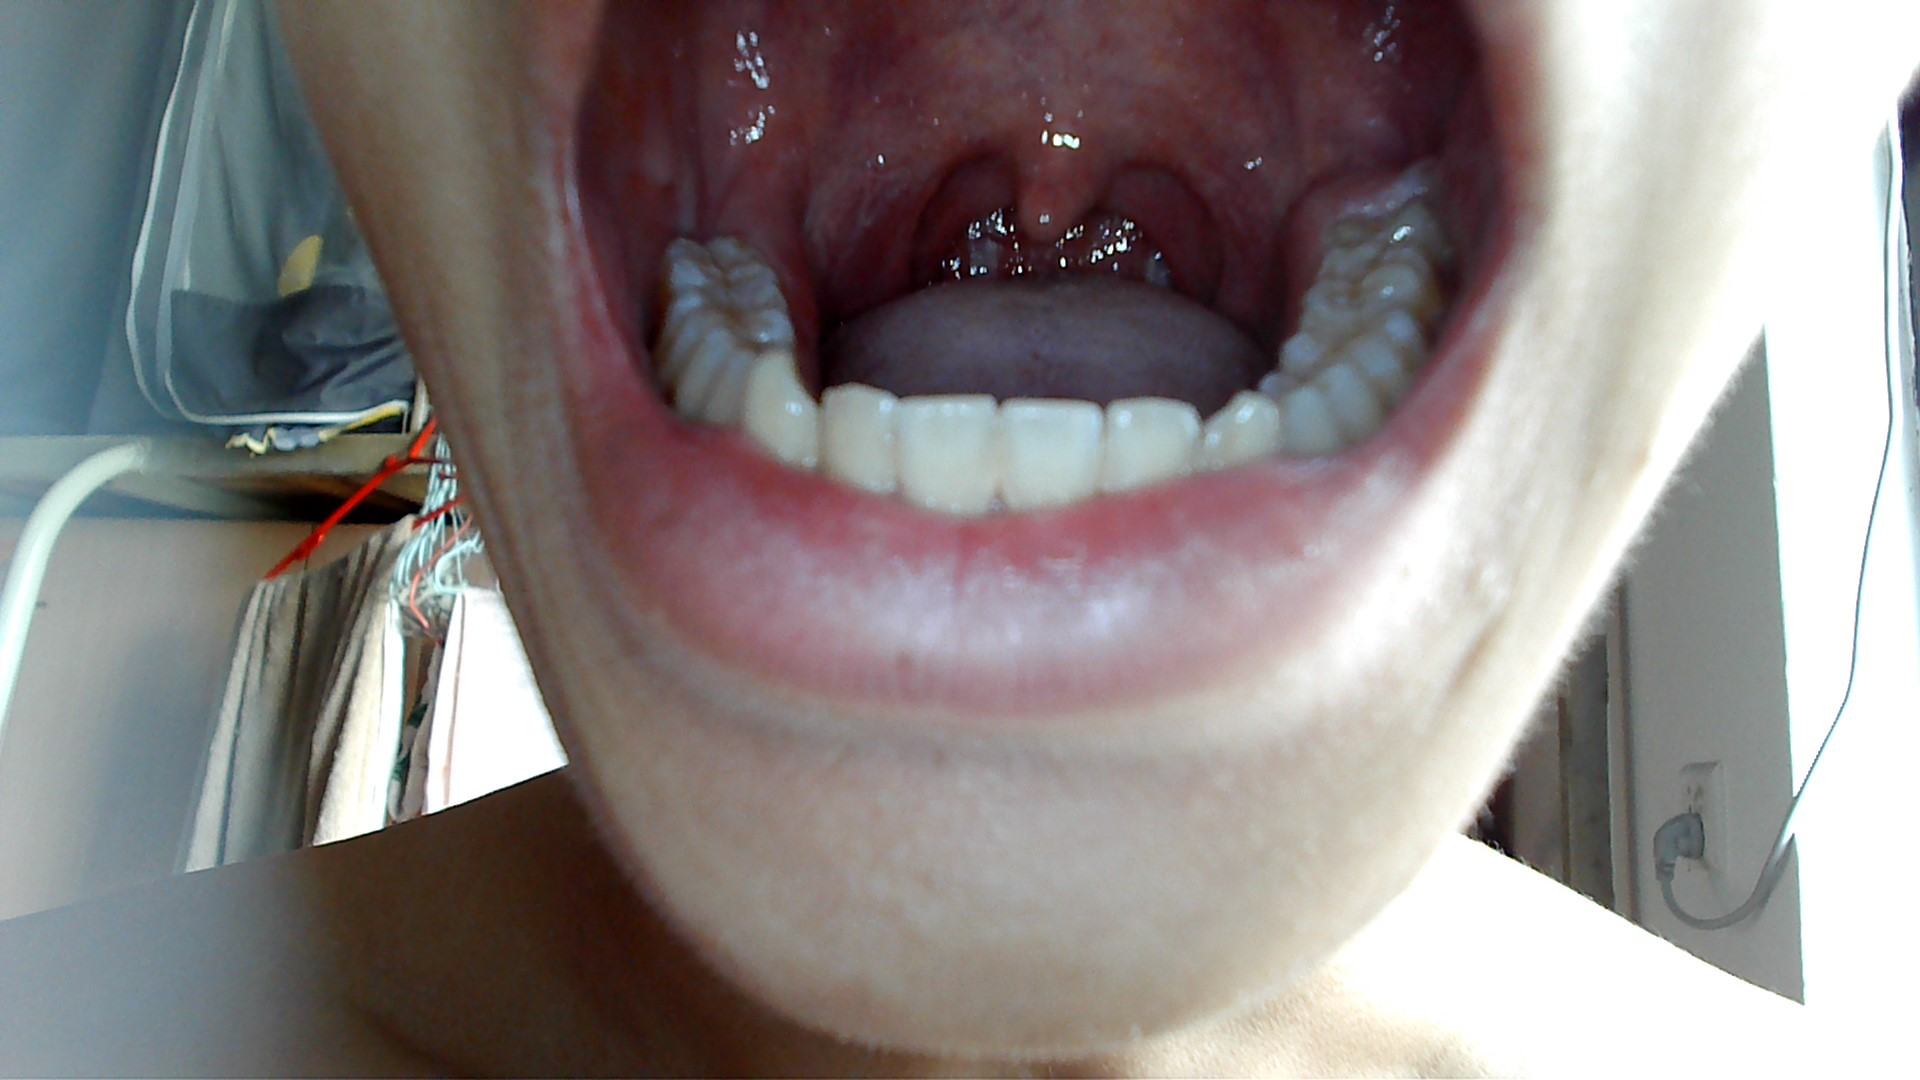throat: (1162, 128, 1250, 301), (874, 108, 953, 291)
